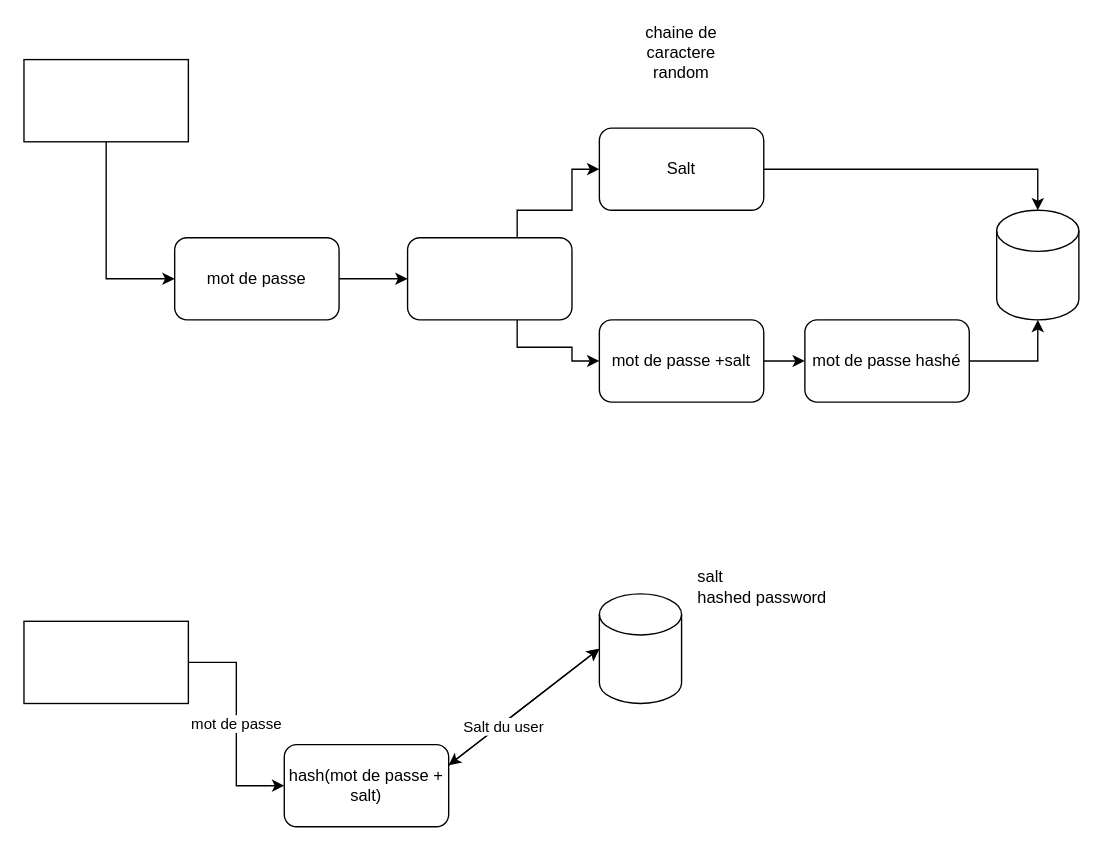
The diagram is 1103 pixels wide and 851 high, and some of its shapes have lost their labels. The shapes that lost their labels are listed below. From the top down, each one's centre as x and y in pixels, then its label:
At [105,100]: "Le client (browser)".
At [489,278]: "Generer le salt".
